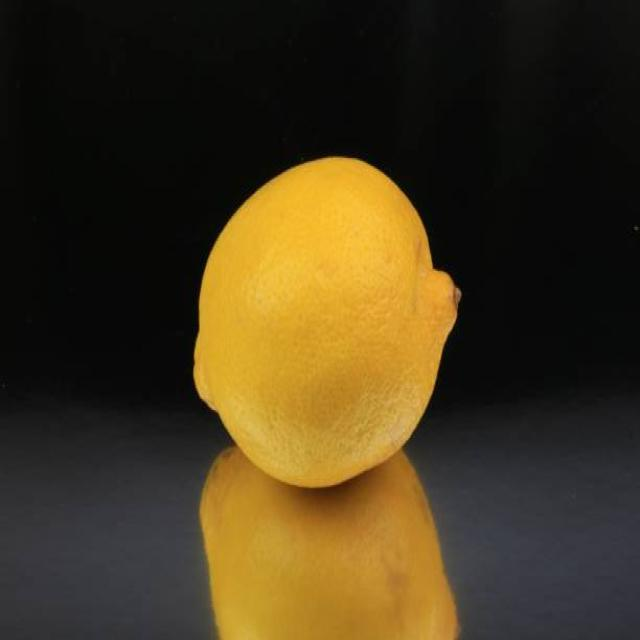Lemon: (192, 155, 464, 492)
